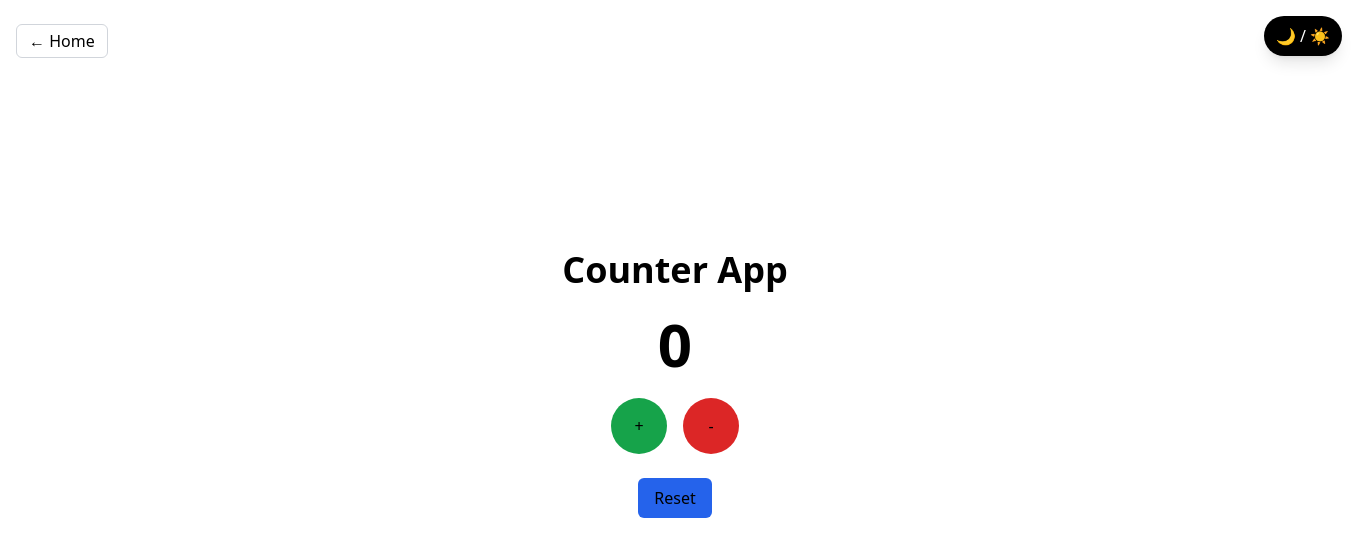
Test: Counter Page › resets count
Click the button "+": click(639, 426) x1=611 y1=398 x2=667 y2=454
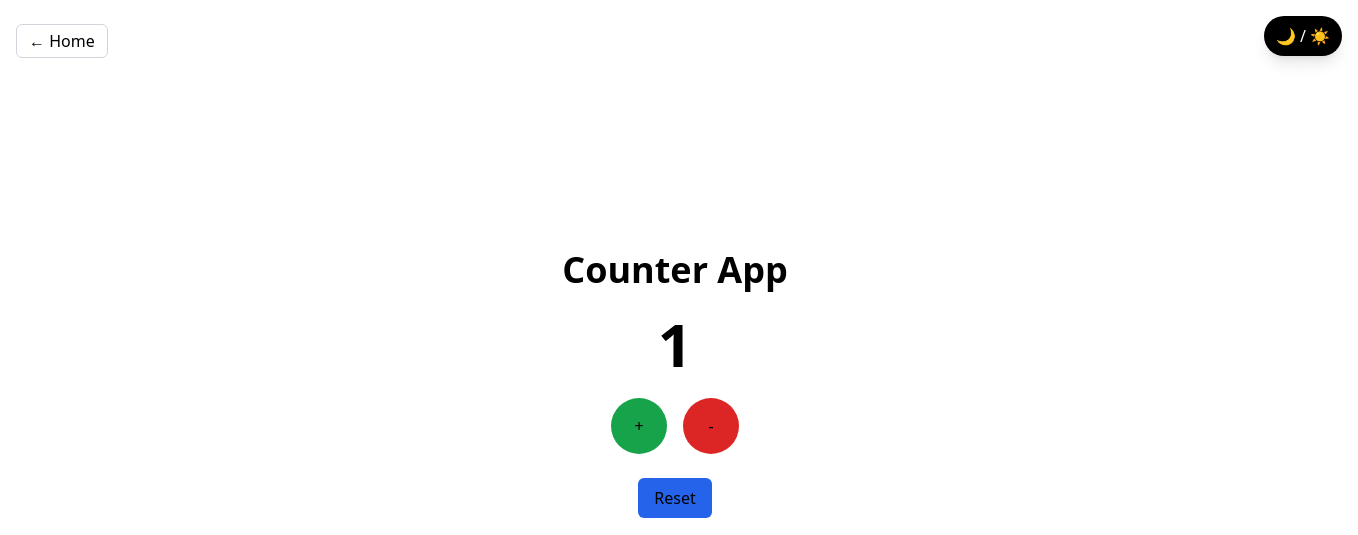
Click the button "+": click(639, 426) x1=611 y1=398 x2=667 y2=454
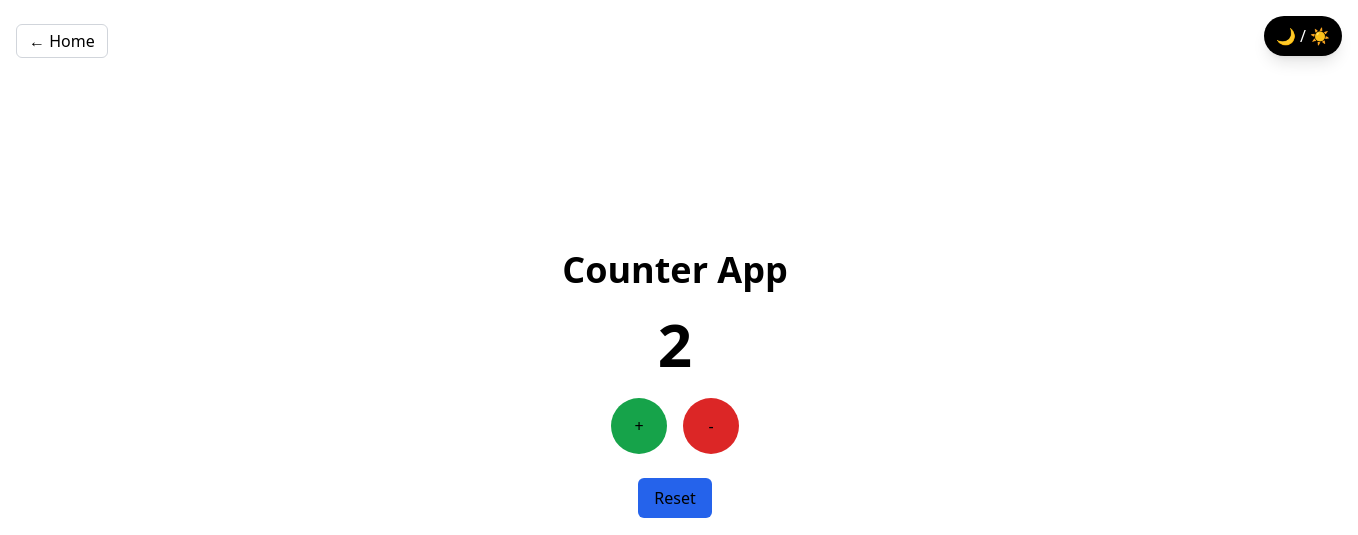
Result: the text "2" is shown at x1=658 y1=314 x2=692 y2=374
Click the button "Reset": click(675, 498) x1=638 y1=478 x2=712 y2=518
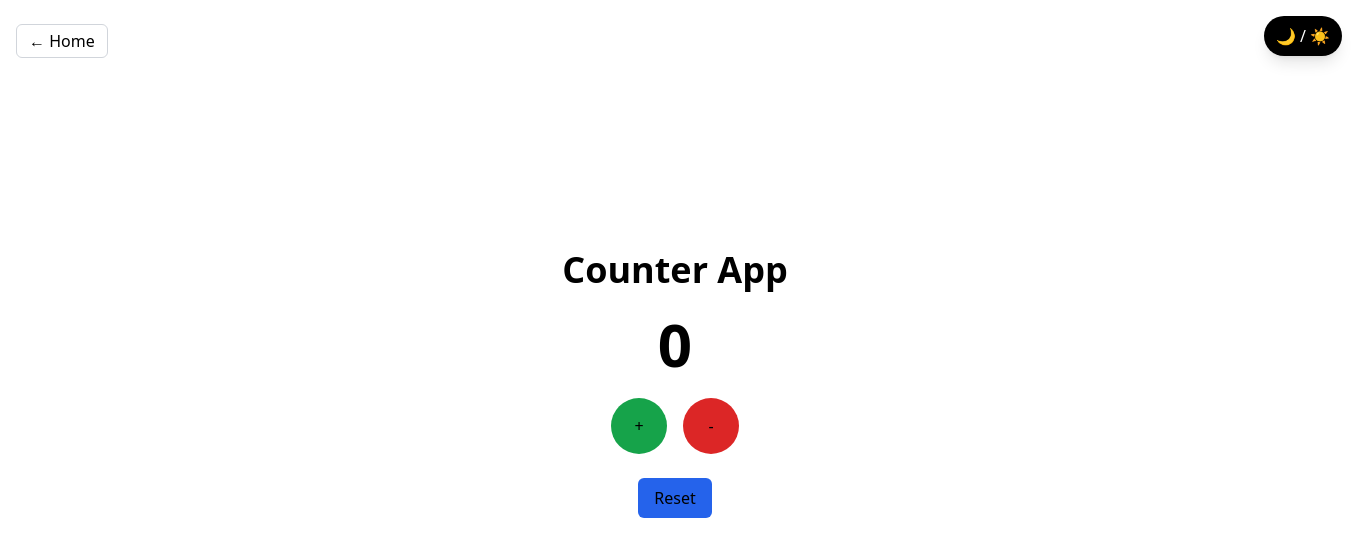
Result: the text "0" is shown at x1=658 y1=314 x2=692 y2=374
